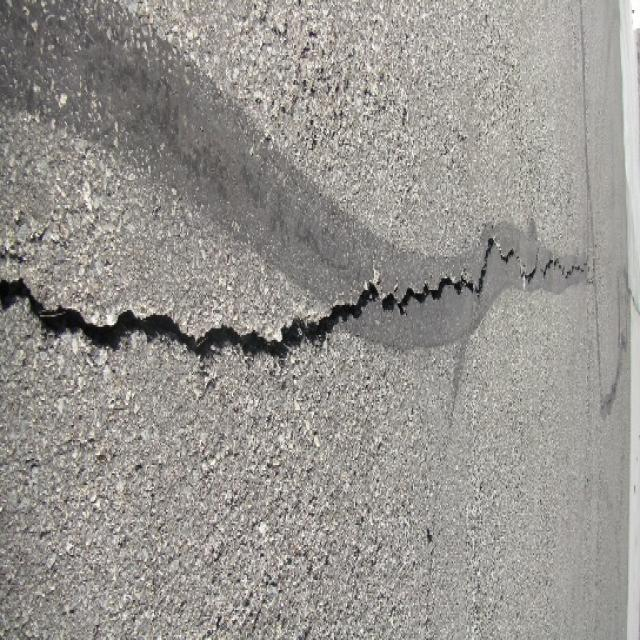Transverse: (13, 197, 591, 358)
